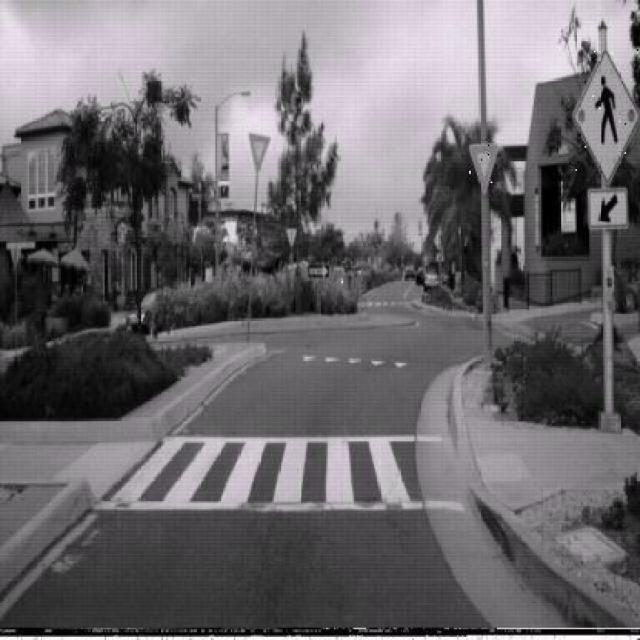pedestrianCrossing: (570, 49, 640, 185)
yield: (468, 142, 498, 194), (248, 132, 270, 173)
